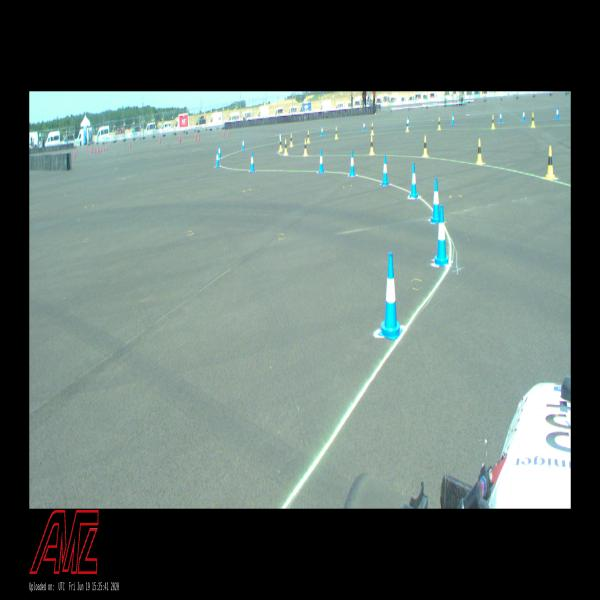blue_cone: (378, 253, 403, 340), (434, 206, 449, 264), (431, 179, 441, 224), (410, 163, 418, 198), (381, 155, 389, 185), (350, 151, 356, 176), (319, 149, 324, 173), (250, 151, 255, 171), (215, 150, 220, 167), (556, 106, 559, 120), (522, 109, 525, 122), (279, 131, 282, 144), (500, 110, 502, 123), (219, 145, 221, 158), (242, 138, 244, 150), (363, 120, 365, 132), (452, 113, 454, 125), (321, 126, 323, 137), (407, 117, 409, 128)
yellow_cone: (545, 146, 555, 179), (476, 139, 483, 164), (423, 136, 428, 157), (370, 134, 374, 154), (284, 138, 288, 155), (304, 139, 308, 155), (531, 112, 535, 127), (491, 115, 495, 128), (334, 127, 338, 139), (279, 136, 282, 152), (290, 133, 293, 146), (371, 122, 374, 135), (438, 117, 441, 130), (406, 119, 409, 132), (306, 131, 309, 142)
